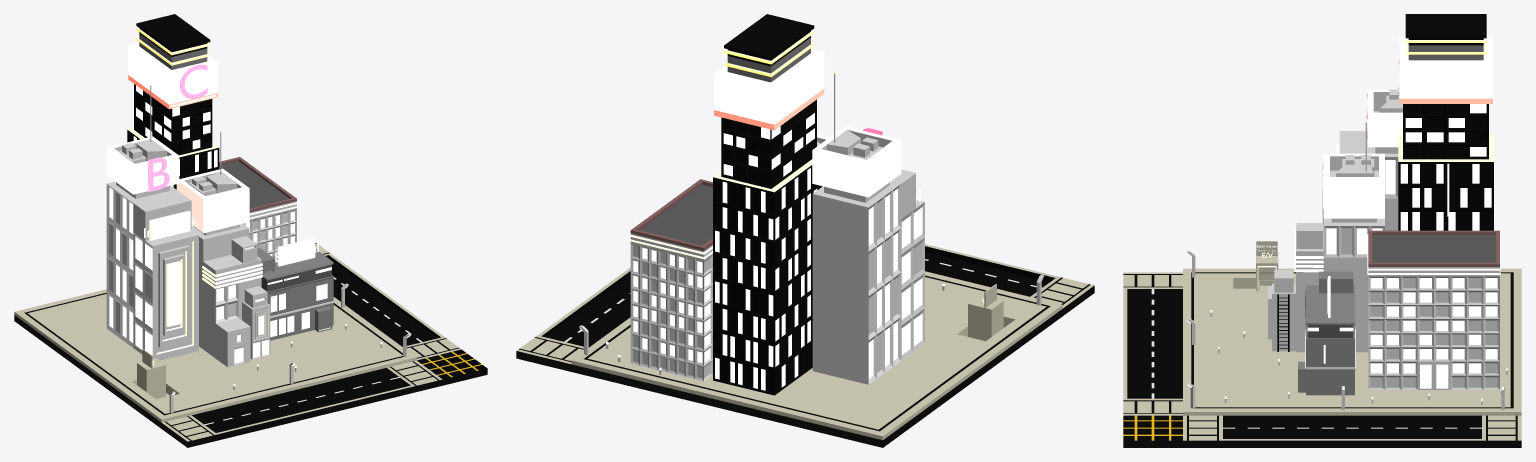
The model's file is cyberpunk_city.glb.
3 renders of one model, left to right at view 1: azimuth 30°, elevation 25°; view 2: azimuth 150°, elevation 25°; view 3: azimuth 270°, elevation 25°, orthographic. The views are drawn at different scales.
Visible parts, largest first — view 1: Plane, Plane.009, Plane.007, Plane.006, Plane.003, Plane.005, Plane.002, Text.004; view 2: Plane.007, Plane, Plane.009, Plane.002; view 3: Plane, Plane.002, Plane.007, Plane.005, Plane.003, Plane.006, Plane.009, Cylinder, STREET LIGHT-PANEL.
Boxes of the visible parts, <box> form: Plane: <box>14,242,487,447</box>; Plane.009: <box>106,83,198,360</box>; Plane.007: <box>127,14,219,189</box>; Plane.006: <box>202,236,270,367</box>; Plane.003: <box>257,238,334,340</box>; Plane.005: <box>176,130,249,348</box>; Plane.002: <box>219,157,298,256</box>; Text.004: <box>148,157,169,191</box>; Plane.007: <box>713,14,824,395</box>; Plane: <box>516,244,1094,447</box>; Plane.009: <box>812,71,924,384</box>; Plane.002: <box>629,179,712,381</box>; Plane: <box>1123,241,1521,447</box>; Plane.002: <box>1367,230,1500,389</box>; Plane.007: <box>1398,14,1493,230</box>; Plane.005: <box>1296,120,1384,352</box>; Plane.003: <box>1298,271,1355,395</box>; Plane.006: <box>1268,223,1323,352</box>; Plane.009: <box>1322,89,1402,230</box>; Cylinder: <box>1277,294,1289,351</box>; STREET LIGHT-PANEL: <box>1186,251,1195,408</box>.
Size of what is drawn, in the model's own units: 10 by 9.01 by 10.
